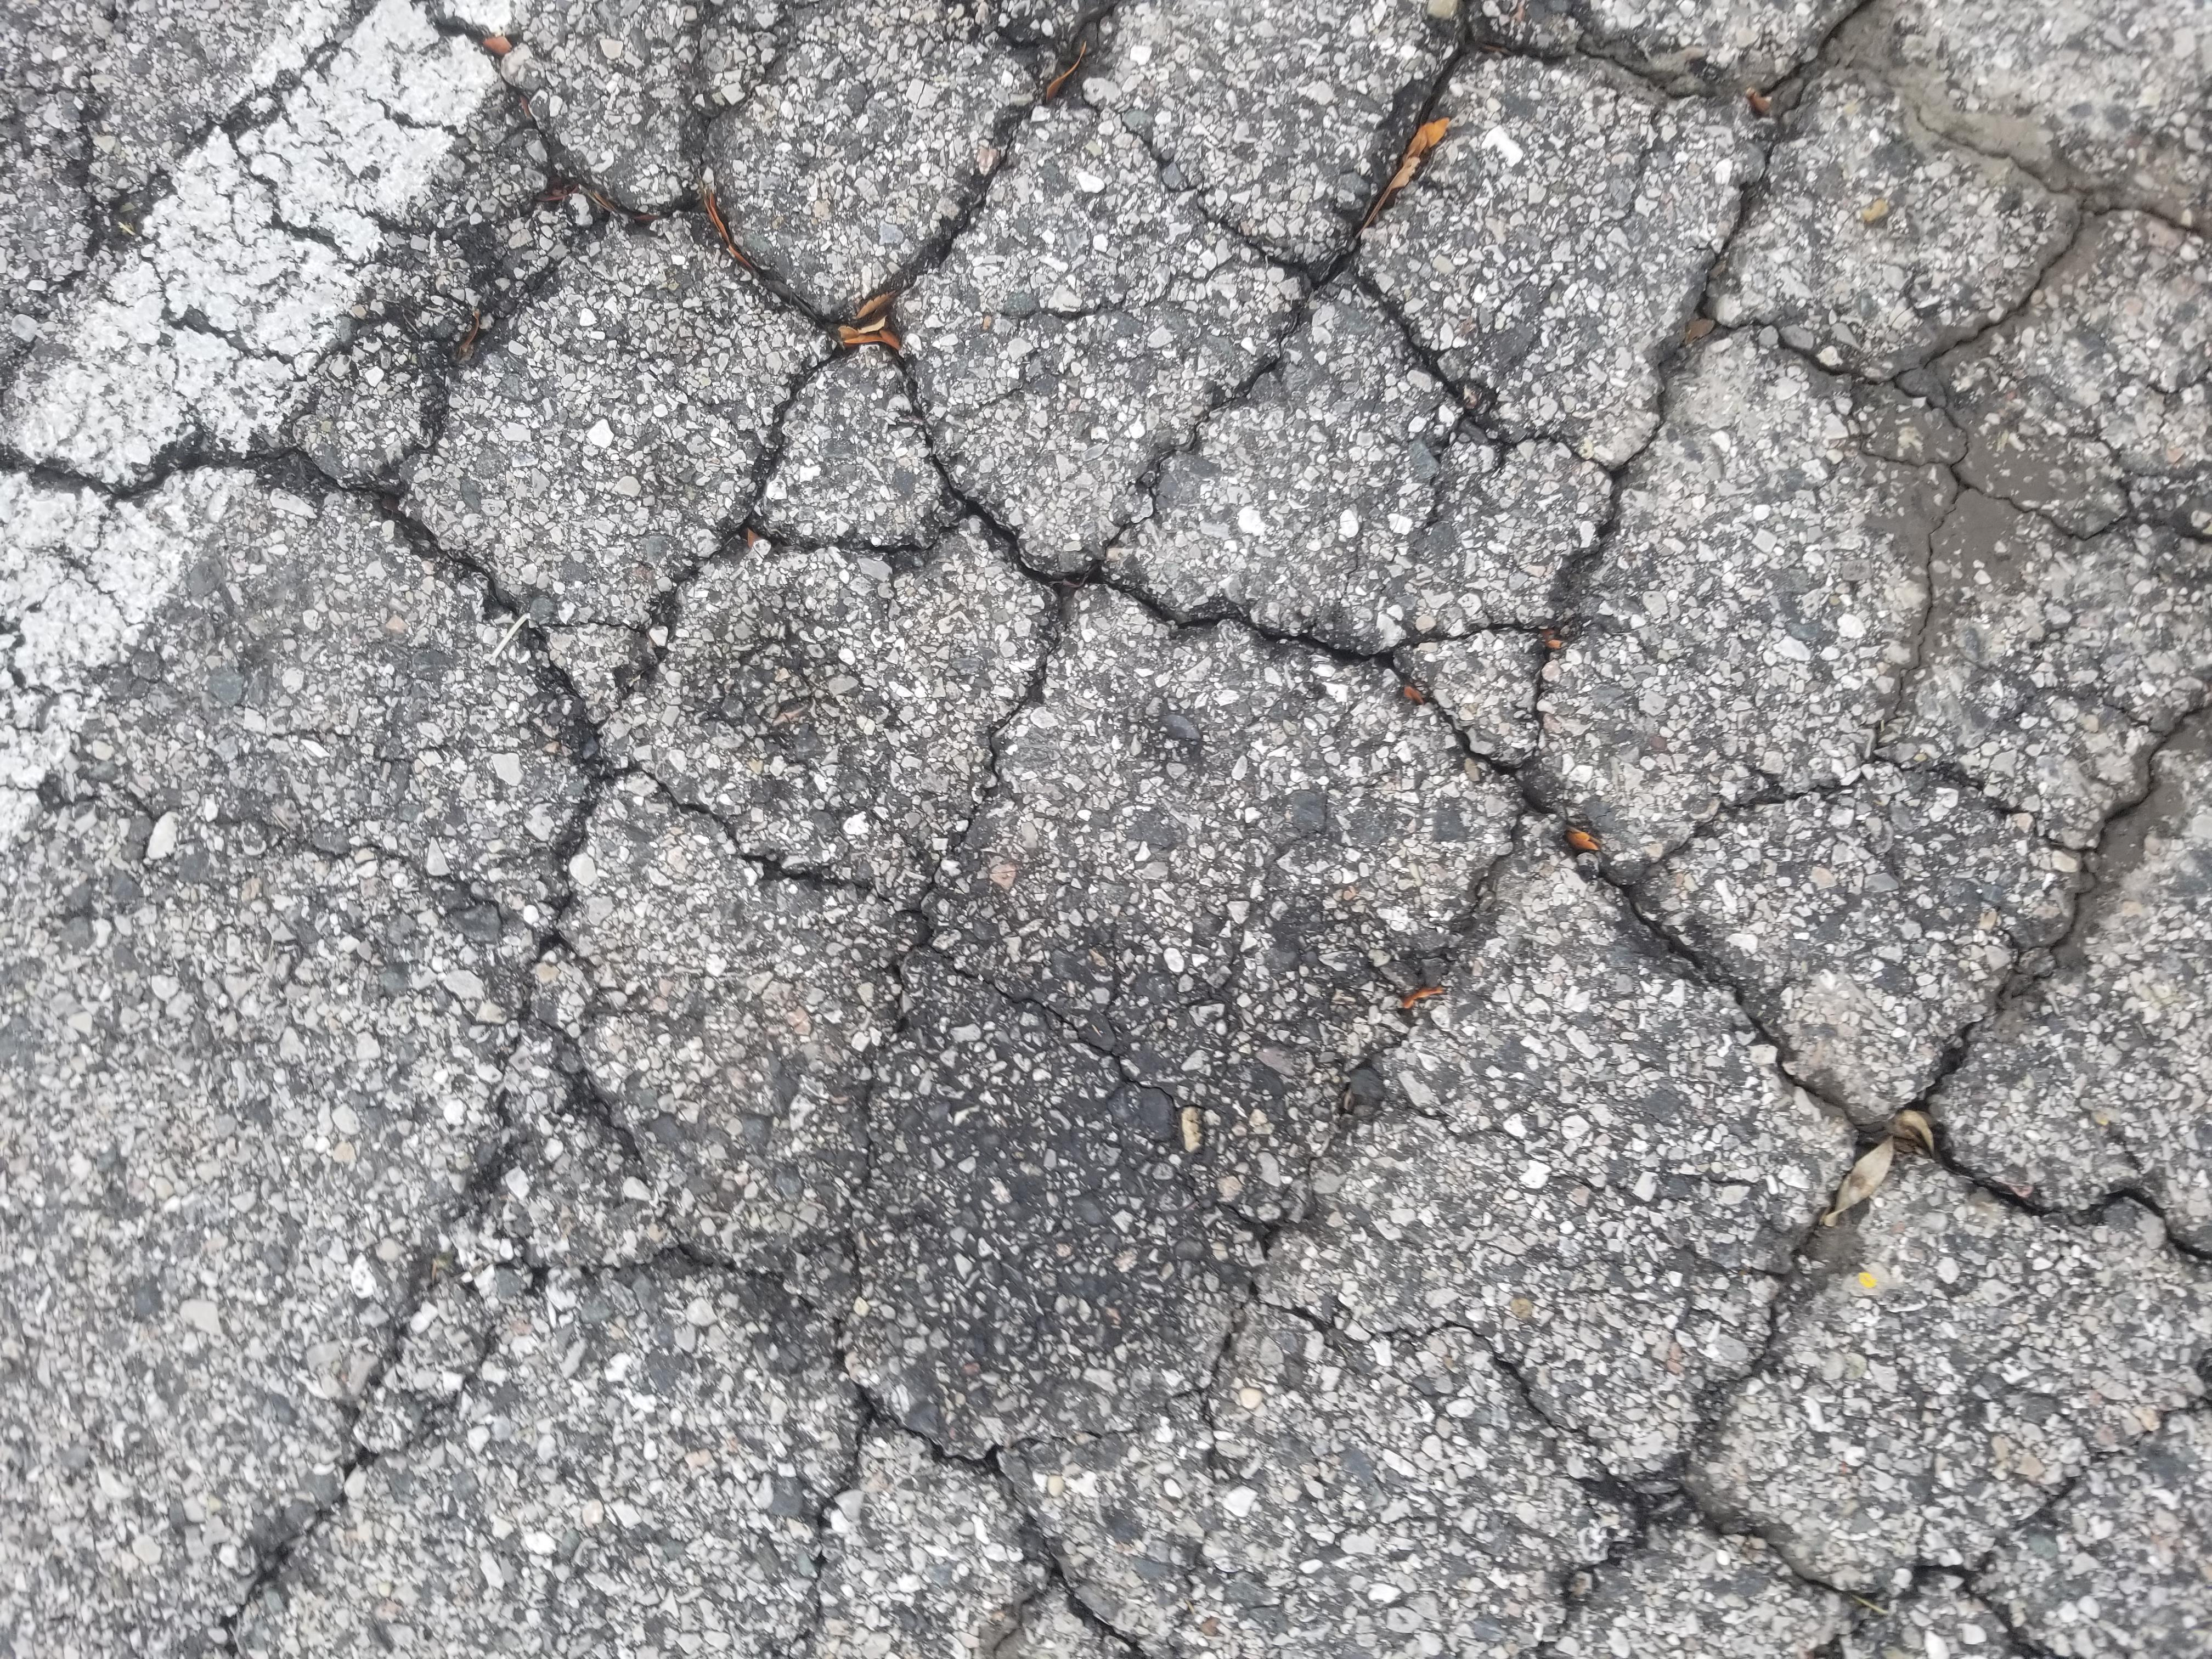alligator-crack: (45, 26, 2161, 1649)
